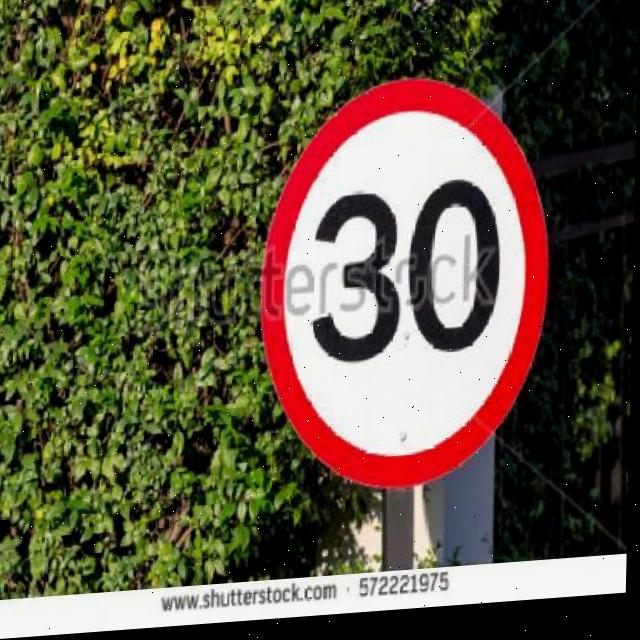Speed limit 30: (254, 73, 559, 507)
